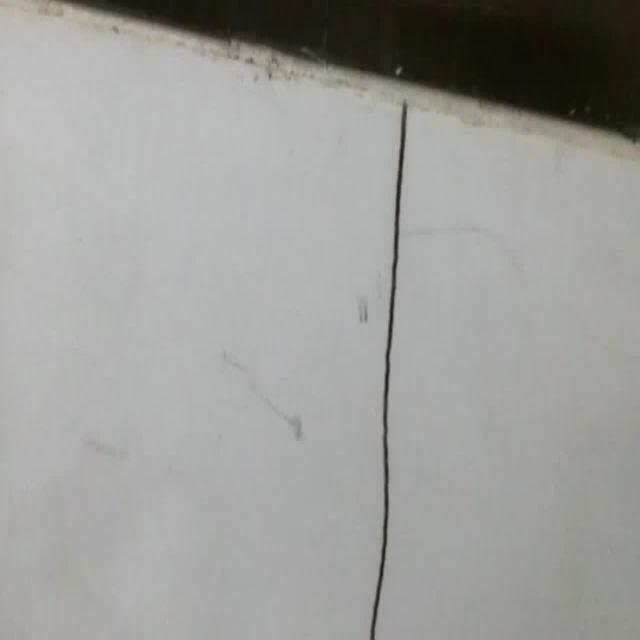Crack: (344, 115, 428, 632), (412, 167, 624, 326)
